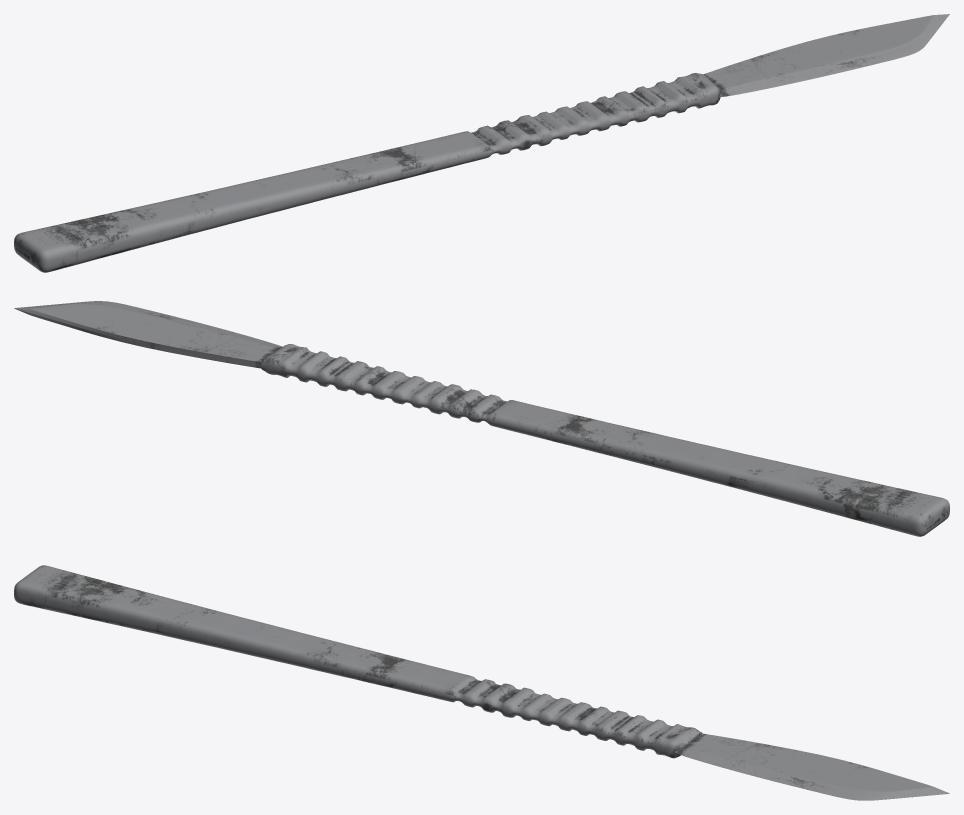
The model's file is scalpel.glb.
3 renders of one model, top to bottom at view 1: azimuth 30°, elevation 25°; view 2: azimuth 150°, elevation 25°; view 3: azimuth 330°, elevation 25°, orthographic. The views are drawn at different scales.
Parts seen in each view (by area): view 1: Body; view 2: Body; view 3: Body.
Boxes of the visible parts, x1,y1,x2,y2 form: Body: (14, 14, 949, 272); Body: (14, 301, 949, 536); Body: (14, 565, 949, 800).
Bounding box in the file's own units: 2.57 × 0.0581 × 0.1769.
Materials: 1 (1 with a texture image).
